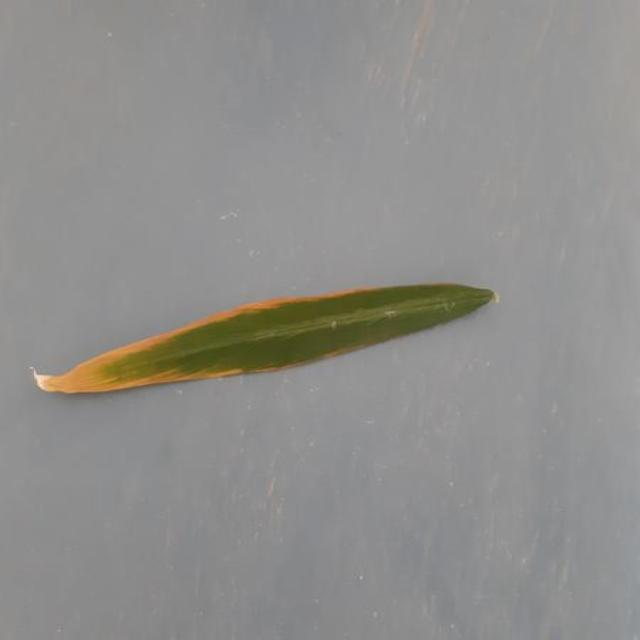bacterial wilt: (45, 284, 498, 392)
ginger: (33, 282, 498, 393)
